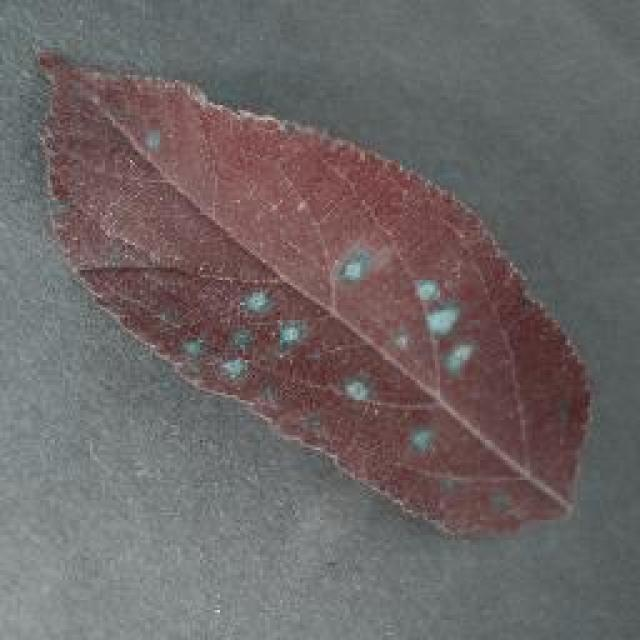apple rust disease: (32, 45, 592, 540)
